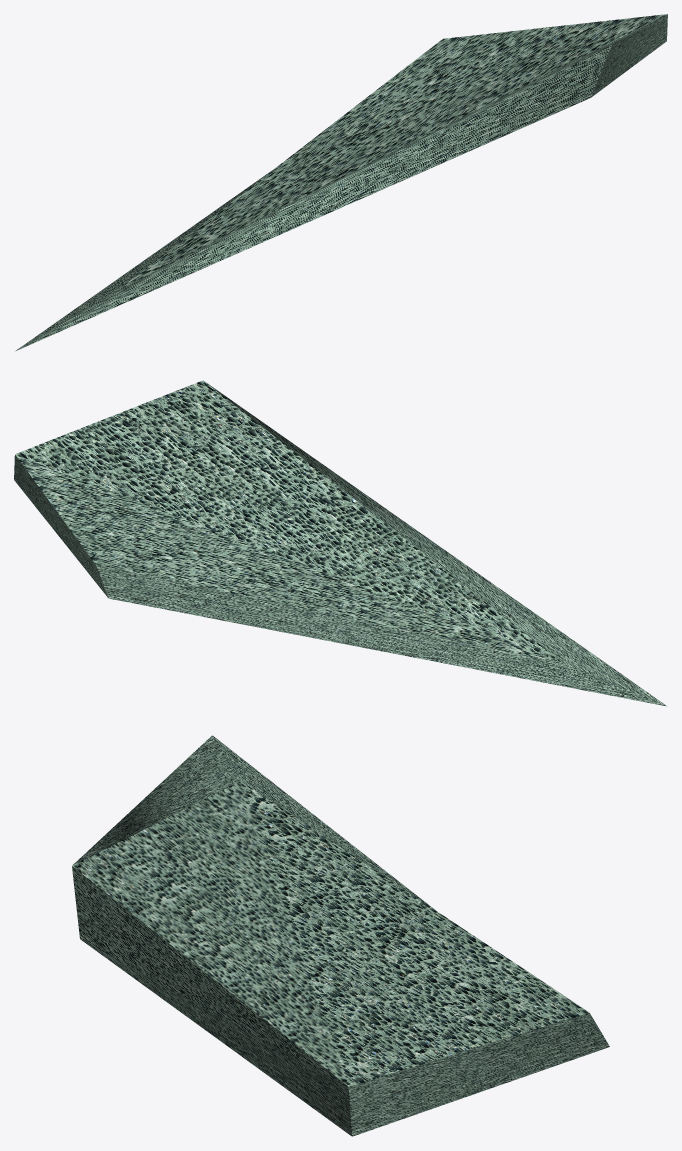
Rendered from [NUEVO] Vidrio Roto Fragmento.FBX.
3 views of the same model, one above another, from view 1: azimuth 30°, elevation 25°; view 2: azimuth 150°, elevation 25°; view 3: azimuth 270°, elevation 25° (orthographic). The views are drawn at different scales.
Visible parts, largest first — view 1: Box007; view 2: Box007; view 3: Box007.
Boxes of the visible parts, bbox=[...] form: Box007: bbox=[15, 14, 667, 351]; Box007: bbox=[14, 380, 667, 706]; Box007: bbox=[72, 735, 609, 1136].
Bounding box in the file's own units: 60.91 × 16.8 × 22.93.
Materials: 1 (1 with a texture image).
